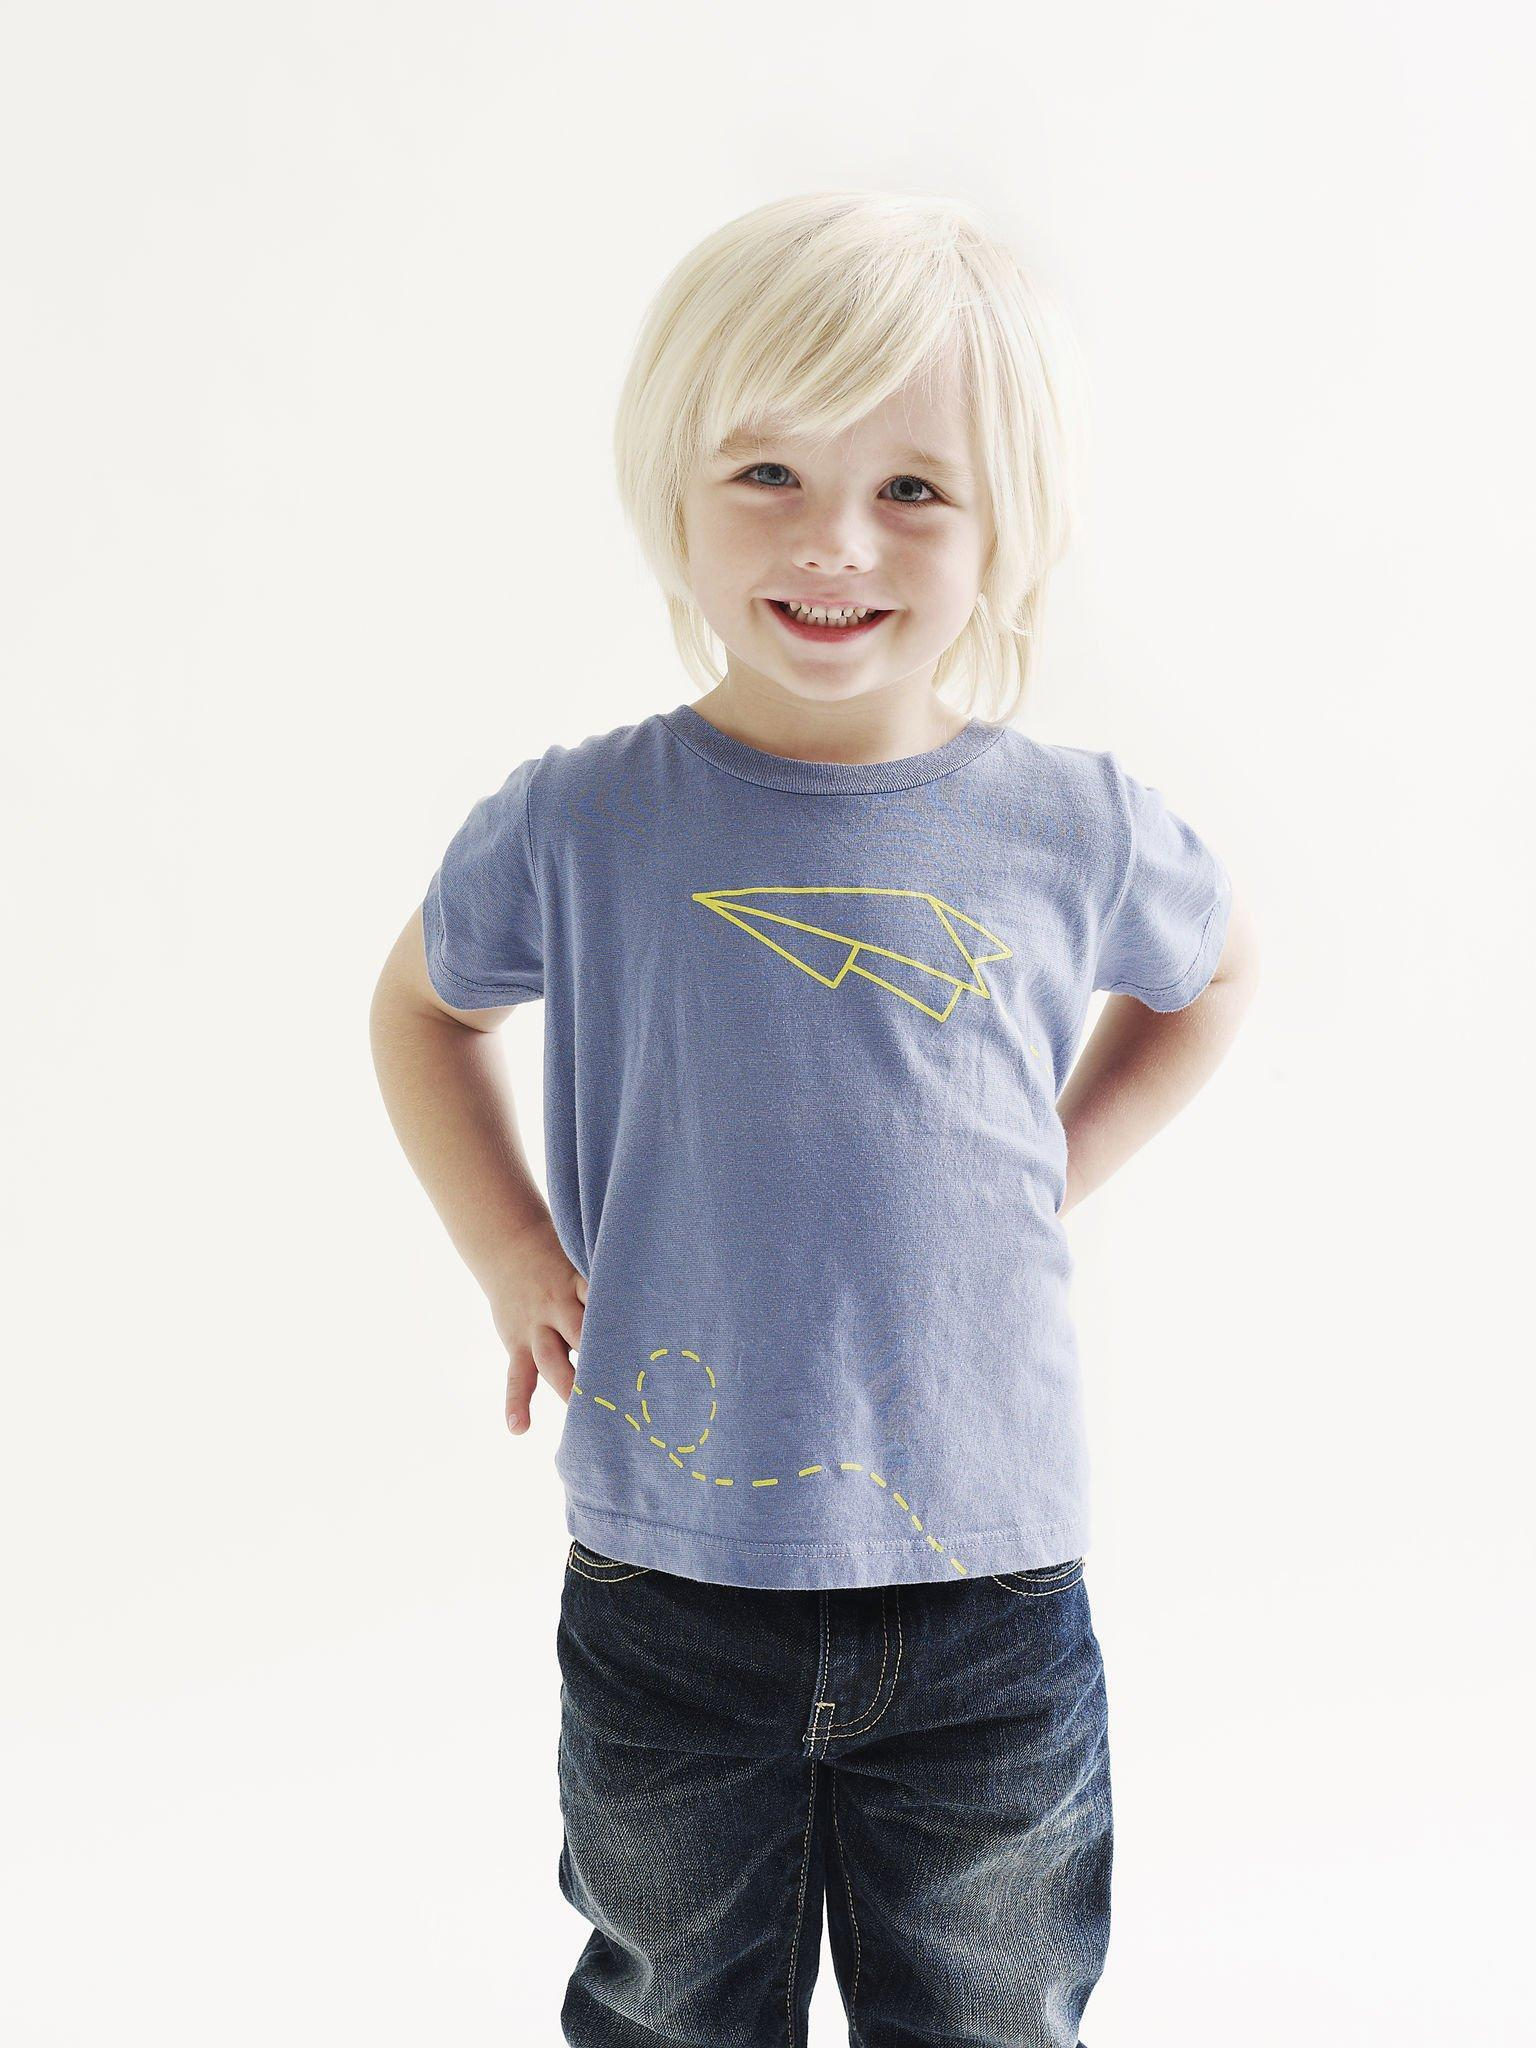Healthy: (597, 261, 1044, 742)
